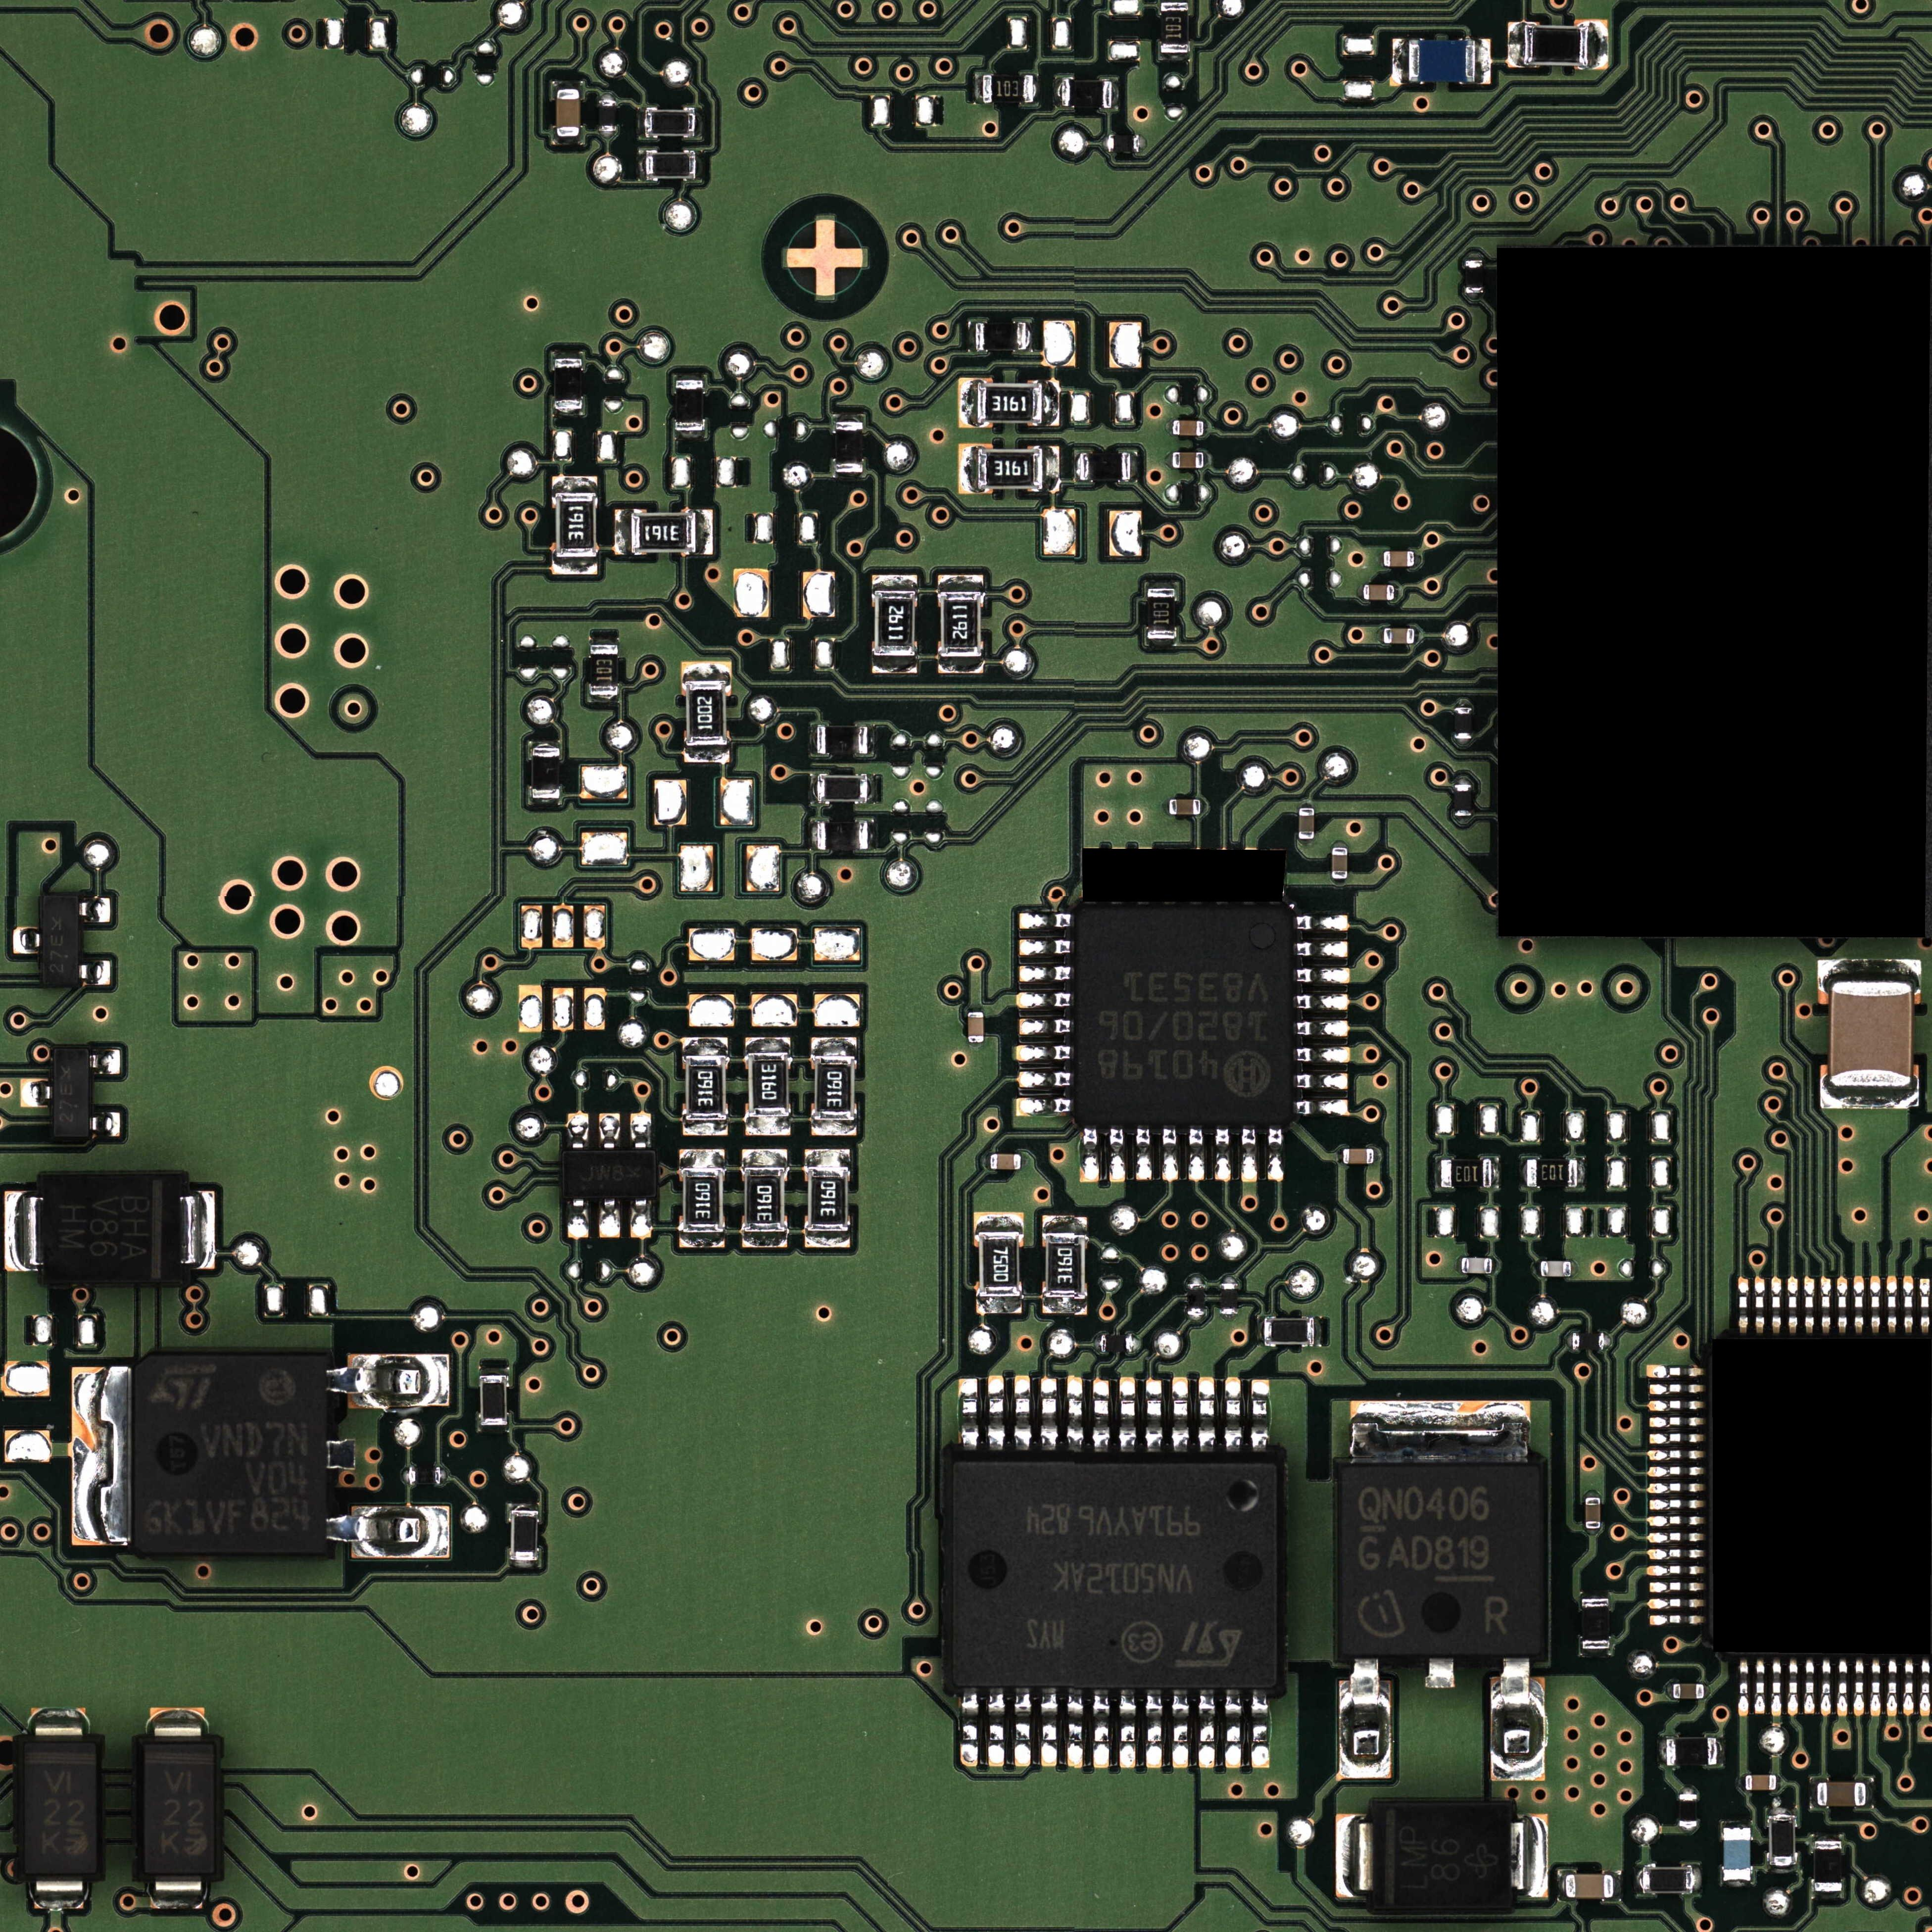Package: (954, 1463, 1276, 1686), (1077, 908, 1292, 1125), (1339, 1465, 1541, 1656), (133, 1355, 327, 1550), (1373, 1803, 1511, 1909), (44, 1178, 180, 1281), (23, 1743, 97, 1875), (143, 1744, 216, 1875), (1828, 982, 1914, 1086), (563, 1152, 656, 1196), (42, 895, 78, 985), (55, 1049, 88, 1136), (978, 1231, 1021, 1297), (1408, 41, 1476, 81), (939, 593, 982, 656), (685, 681, 727, 745), (874, 591, 915, 656), (977, 449, 1042, 490), (977, 384, 1042, 425), (1523, 25, 1589, 65), (556, 494, 596, 557), (632, 513, 695, 554), (814, 1056, 855, 1120), (685, 1056, 725, 1120), (748, 1053, 789, 1116), (1046, 1233, 1085, 1299), (745, 1168, 784, 1231), (809, 1168, 847, 1231), (683, 1169, 722, 1233), (817, 821, 869, 851), (1723, 1828, 1752, 1881), (975, 322, 1026, 350), (982, 74, 1033, 103), (1079, 453, 1131, 481), (1527, 1159, 1578, 1187), (817, 725, 867, 754), (554, 359, 582, 409), (835, 423, 863, 472), (676, 380, 704, 430), (1062, 80, 1111, 108), (1813, 1842, 1842, 1891), (1582, 1599, 1610, 1649), (1667, 1737, 1716, 1766), (1161, 4, 1189, 53), (591, 644, 617, 695), (1642, 1867, 1693, 1893), (1440, 1161, 1491, 1187), (817, 775, 867, 801), (646, 110, 695, 136), (646, 152, 695, 179), (533, 748, 559, 798), (511, 1511, 538, 1560), (1148, 589, 1175, 639), (1769, 1815, 1796, 1865), (1265, 1318, 1315, 1345), (481, 1375, 506, 1426), (1817, 1782, 1867, 1806), (556, 88, 580, 136), (1566, 1874, 1614, 1898), (1454, 784, 1472, 817), (1465, 260, 1483, 294), (409, 1467, 441, 1484), (1454, 708, 1472, 740), (1108, 134, 1139, 152), (1573, 1332, 1605, 1350), (1679, 1794, 1697, 1826), (1100, 1334, 1132, 1352), (1221, 1283, 1238, 1315), (1187, 1283, 1205, 1315), (1332, 847, 1348, 879), (1585, 1497, 1601, 1529), (600, 101, 616, 131), (968, 1012, 984, 1042), (991, 1154, 1021, 1169), (1384, 550, 1414, 566), (1384, 628, 1414, 644), (1364, 584, 1394, 600), (1173, 453, 1203, 469), (1299, 809, 1315, 839), (1173, 419, 1203, 435), (1541, 1261, 1571, 1277), (1461, 1258, 1491, 1274), (1746, 1775, 1776, 1790), (1343, 1148, 1373, 1164), (1169, 800, 1200, 814), (1674, 1684, 1704, 1698)
Solder: (1350, 1399, 1530, 1465), (71, 1368, 133, 1546), (1491, 1656, 1546, 1780), (327, 1353, 449, 1408), (1338, 1656, 1392, 1778), (327, 1506, 449, 1559), (4, 1191, 44, 1270), (1336, 1813, 1373, 1898), (1511, 1813, 1548, 1898), (180, 1191, 216, 1269), (1819, 959, 1921, 982), (1821, 1088, 1920, 1109), (149, 1707, 205, 1743), (150, 1874, 205, 1909), (30, 1707, 87, 1741), (32, 1875, 85, 1909), (1251, 1690, 1270, 1769), (1118, 1376, 1138, 1453), (1224, 1376, 1244, 1451), (1067, 1688, 1085, 1769), (1143, 1378, 1162, 1451), (1039, 1376, 1058, 1449), (961, 1688, 978, 1767), (1092, 1690, 1109, 1769), (1171, 1690, 1189, 1769), (1224, 1690, 1242, 1769), (1040, 1688, 1058, 1767), (987, 1688, 1005, 1767), (1014, 1688, 1031, 1767), (959, 1378, 978, 1449), (1251, 1380, 1270, 1451), (1067, 1376, 1085, 1451), (1014, 1375, 1031, 1449), (987, 1375, 1005, 1449), (1171, 1378, 1189, 1451), (1146, 1690, 1162, 1769), (1120, 1690, 1136, 1769), (1200, 1690, 1215, 1769), (1093, 1378, 1109, 1453), (1200, 1378, 1215, 1451), (957, 442, 977, 495), (19, 1077, 53, 1108), (973, 1212, 1024, 1231), (1589, 19, 1608, 71), (1017, 991, 1072, 1008), (1016, 1099, 1070, 1116), (681, 662, 731, 681), (1426, 1656, 1456, 1688), (1019, 911, 1072, 929), (1019, 964, 1072, 982), (1081, 1129, 1099, 1182), (1108, 1129, 1125, 1182), (1187, 1127, 1205, 1180), (681, 1037, 729, 1056), (959, 377, 977, 428), (1240, 1129, 1258, 1180), (1267, 1129, 1284, 1180), (1214, 1129, 1231, 1180), (327, 1438, 356, 1470), (679, 1148, 725, 1168), (745, 1116, 791, 1136), (741, 1148, 787, 1168), (810, 1037, 856, 1056), (630, 1198, 651, 1238), (600, 1198, 621, 1238), (568, 1198, 589, 1238), (1017, 1046, 1070, 1062), (1161, 1127, 1177, 1180), (1297, 1047, 1350, 1063), (1297, 915, 1350, 931), (1297, 941, 1350, 957), (1297, 994, 1350, 1010), (1647, 1364, 1706, 1378), (1021, 939, 1072, 955), (1019, 1019, 1070, 1035), (1019, 1072, 1070, 1088), (1136, 1129, 1152, 1180), (1297, 1021, 1348, 1037), (695, 510, 713, 556), (552, 557, 598, 575), (938, 575, 984, 593), (741, 1231, 787, 1249), (977, 1297, 1023, 1315), (1042, 380, 1060, 426), (1042, 446, 1060, 492), (1042, 1215, 1088, 1233), (12, 927, 42, 954), (80, 897, 110, 924), (88, 1113, 120, 1138), (600, 1113, 621, 1150), (568, 1113, 589, 1150), (683, 747, 731, 763), (80, 961, 110, 985), (90, 1049, 120, 1074), (552, 476, 598, 492), (614, 510, 630, 556), (872, 575, 918, 591), (872, 658, 918, 674), (938, 658, 984, 674), (679, 1233, 725, 1249), (805, 1231, 851, 1247), (745, 1037, 791, 1053), (1392, 39, 1408, 85), (1042, 1299, 1088, 1315), (1476, 39, 1491, 85), (1507, 21, 1523, 67), (1297, 1100, 1348, 1115), (1297, 1074, 1348, 1088), (1297, 970, 1348, 984), (632, 1113, 651, 1150), (805, 1150, 849, 1166), (812, 1120, 856, 1136), (683, 1122, 729, 1136), (1739, 1658, 1750, 1716), (1771, 1658, 1782, 1716), (1787, 1658, 1798, 1716), (1739, 1277, 1750, 1334), (1755, 1277, 1766, 1334), (1771, 1277, 1782, 1334), (1787, 1277, 1798, 1334), (1821, 1277, 1831, 1334), (1836, 1277, 1847, 1334), (1649, 1417, 1706, 1428), (1647, 1566, 1704, 1576), (1755, 1658, 1766, 1714), (1836, 1660, 1847, 1716), (1805, 1277, 1815, 1332), (1854, 1277, 1865, 1332), (1870, 1277, 1881, 1332), (1886, 1277, 1897, 1332), (1651, 1384, 1706, 1394), (1649, 1433, 1704, 1444), (1649, 1467, 1704, 1477), (1649, 1483, 1704, 1493), (1649, 1499, 1704, 1509), (1651, 1516, 1706, 1527), (1649, 1582, 1704, 1592), (1821, 1660, 1831, 1714), (1870, 1661, 1881, 1716), (1904, 1661, 1914, 1716), (1920, 1661, 1930, 1716), (1920, 1279, 1930, 1332), (1651, 1615, 1704, 1626), (1904, 1276, 1913, 1332), (1649, 1534, 1706, 1543), (1854, 1660, 1863, 1716), (1888, 1660, 1897, 1716), (1649, 1401, 1704, 1410), (1649, 1451, 1704, 1460), (1649, 1550, 1704, 1559), (1649, 1599, 1704, 1608), (1805, 1660, 1813, 1714), (674, 432, 708, 441), (637, 106, 646, 140), (508, 1560, 541, 1569), (1145, 639, 1178, 648), (478, 1366, 510, 1375), (552, 136, 584, 145), (833, 412, 865, 421), (552, 409, 584, 418), (674, 372, 706, 380), (973, 73, 982, 104), (529, 740, 561, 748), (587, 695, 619, 704), (809, 724, 817, 755), (809, 773, 817, 805), (809, 819, 817, 851), (508, 1502, 540, 1511), (1035, 73, 1044, 104), (1053, 76, 1062, 108), (1111, 78, 1120, 110), (1254, 1316, 1263, 1348), (1491, 1157, 1500, 1189), (1693, 1863, 1702, 1895), (1766, 1806, 1798, 1815), (1812, 1891, 1844, 1900), (1658, 1736, 1667, 1767), (695, 150, 704, 180), (867, 773, 876, 803), (867, 725, 876, 755), (1721, 1819, 1752, 1828), (1867, 1778, 1875, 1808), (1716, 1736, 1725, 1766), (1580, 1591, 1610, 1599), (1614, 1870, 1622, 1900), (1557, 1870, 1566, 1900), (1812, 1833, 1842, 1842), (1161, 53, 1189, 62), (1145, 580, 1178, 587), (478, 1426, 510, 1433), (637, 149, 644, 180), (695, 106, 702, 138), (552, 350, 584, 357), (552, 81, 584, 88), (968, 320, 975, 352), (529, 798, 561, 805), (869, 819, 876, 851), (1131, 451, 1138, 483), (1026, 320, 1033, 352), (1074, 451, 1081, 483), (1578, 1157, 1585, 1189), (1520, 1157, 1527, 1189), (1810, 1776, 1817, 1808), (1580, 1649, 1612, 1656), (1721, 1881, 1753, 1888), (833, 472, 863, 479), (589, 637, 619, 644), (1315, 1316, 1322, 1346), (1767, 1867, 1798, 1874), (1635, 1865, 1642, 1895), (1453, 1256, 1463, 1274), (1463, 251, 1484, 260), (1139, 134, 1148, 154), (1454, 699, 1474, 708), (1491, 1256, 1500, 1276), (1679, 1785, 1698, 1794), (1435, 1157, 1440, 1189), (1414, 550, 1422, 568), (1454, 816, 1472, 824), (1465, 294, 1486, 301), (1200, 800, 1208, 816), (1161, 800, 1169, 816), (1021, 1154, 1030, 1169), (982, 1154, 991, 1169), (1373, 1148, 1382, 1164), (441, 1467, 448, 1484), (1205, 451, 1212, 469), (1164, 451, 1171, 469), (1100, 134, 1108, 152), (1454, 777, 1472, 784), (1454, 740, 1472, 747), (1221, 1276, 1238, 1283), (1187, 1315, 1205, 1322), (1605, 1332, 1612, 1350), (1566, 1332, 1573, 1350), (1583, 1490, 1601, 1497), (600, 133, 616, 140), (600, 92, 616, 99), (968, 1005, 984, 1012), (968, 1042, 984, 1049), (1166, 419, 1173, 435), (1376, 550, 1384, 566), (1332, 840, 1348, 847), (1376, 628, 1384, 644), (1414, 628, 1421, 644), (1299, 801, 1315, 809), (1357, 584, 1364, 600), (1394, 584, 1401, 600), (1299, 839, 1315, 846), (1336, 1148, 1343, 1164), (1571, 1261, 1578, 1277), (1534, 1261, 1541, 1277), (1585, 1529, 1601, 1536), (1667, 1683, 1674, 1698), (1739, 1775, 1746, 1790), (1679, 1828, 1698, 1833), (1203, 421, 1210, 435), (1704, 1684, 1711, 1698), (1221, 1315, 1238, 1320), (1187, 1277, 1205, 1283), (403, 1468, 409, 1484), (1332, 879, 1348, 885), (1134, 1336, 1139, 1352), (1095, 1336, 1100, 1352), (1776, 1775, 1782, 1790)
